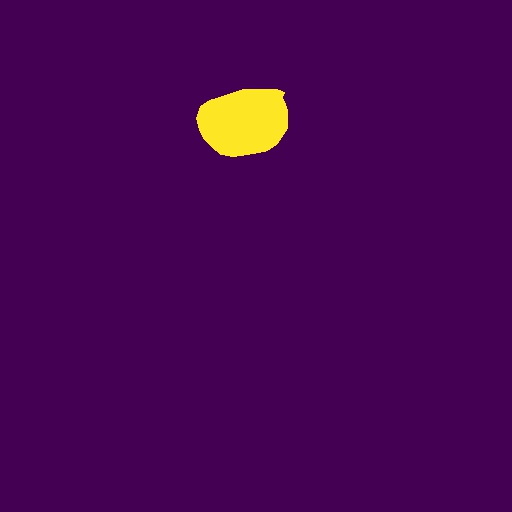Menigiomia_tumour: (196, 89, 288, 157)
